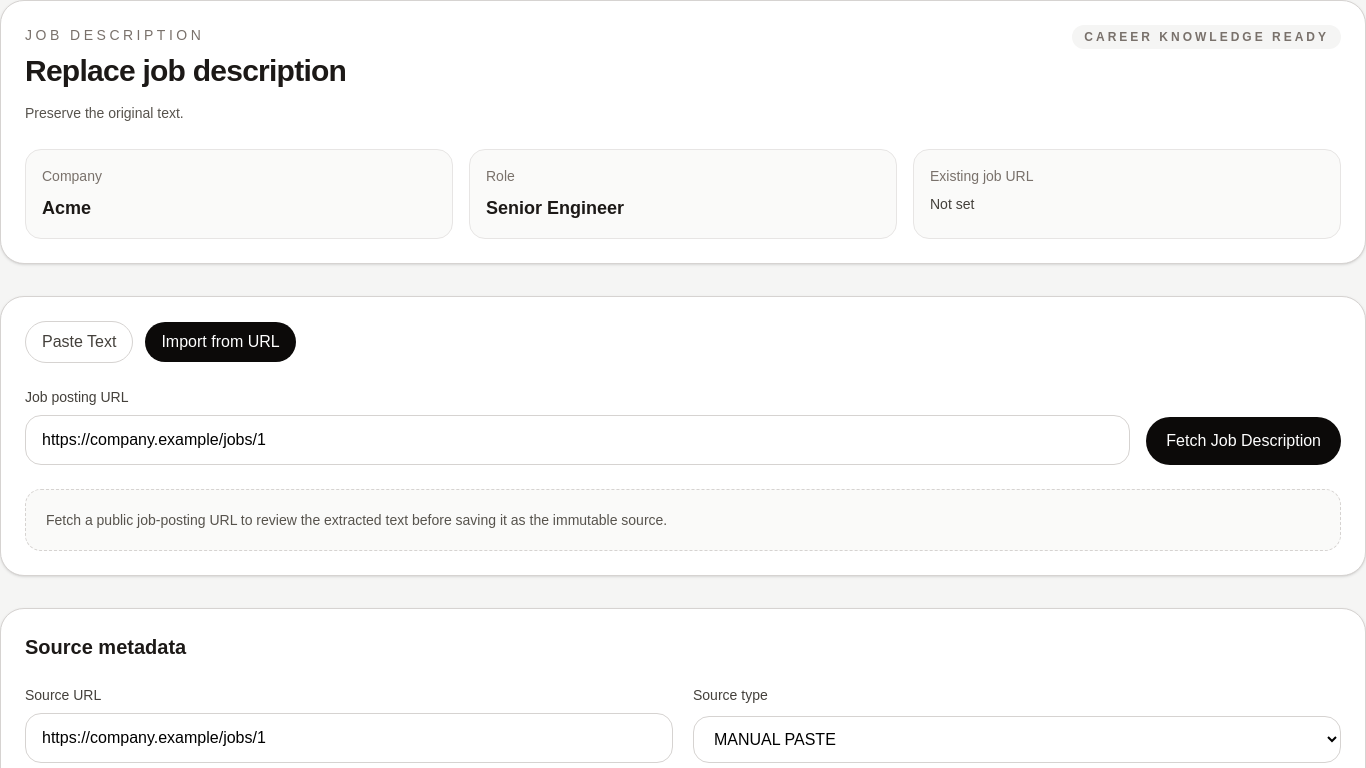
JobDescriptionForm › retries with the rendered page when the static page is a shell and labels the preview provenance
The image size is (1366, 768).
Click the button "Fetch Job Description". click: click(1244, 441)
box: [1146,417,1341,465]
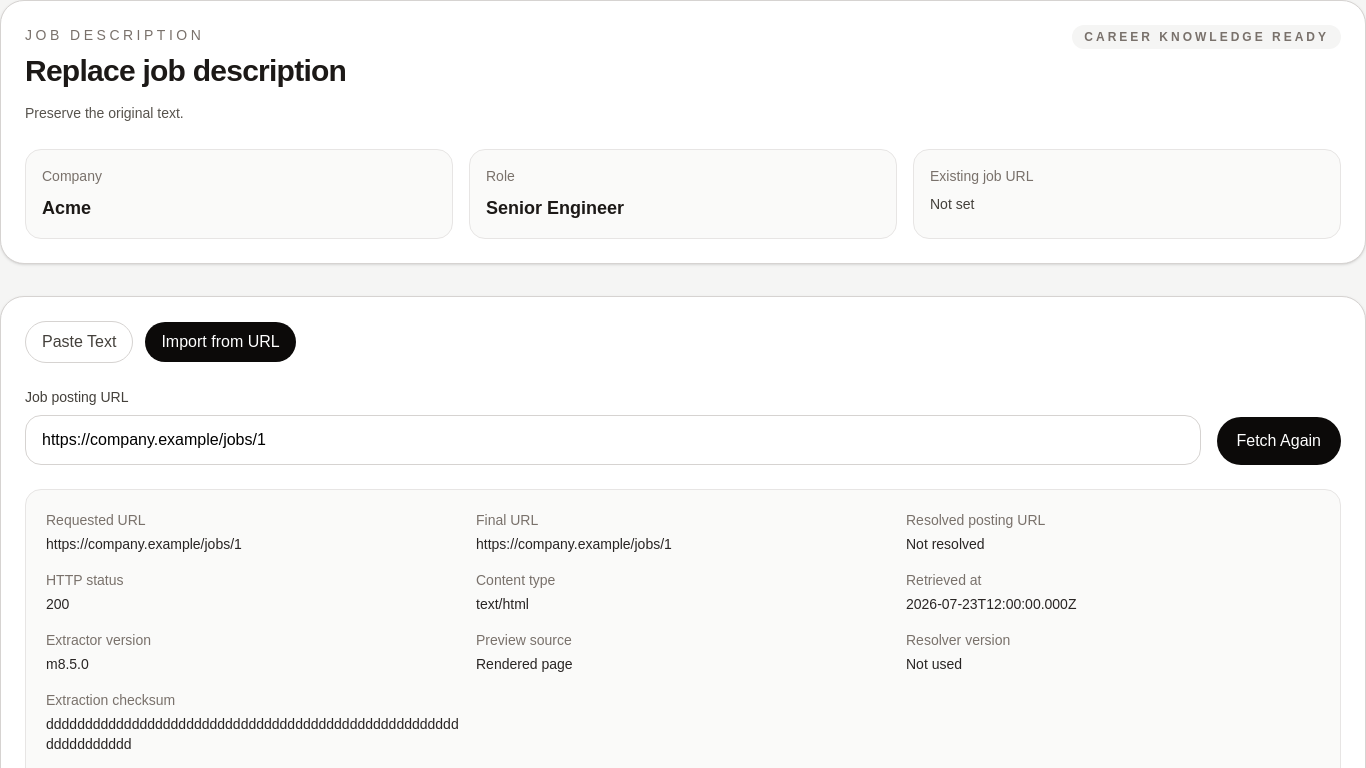
Check: the text "Rendered page" is shown, box [476,656,572,672]
